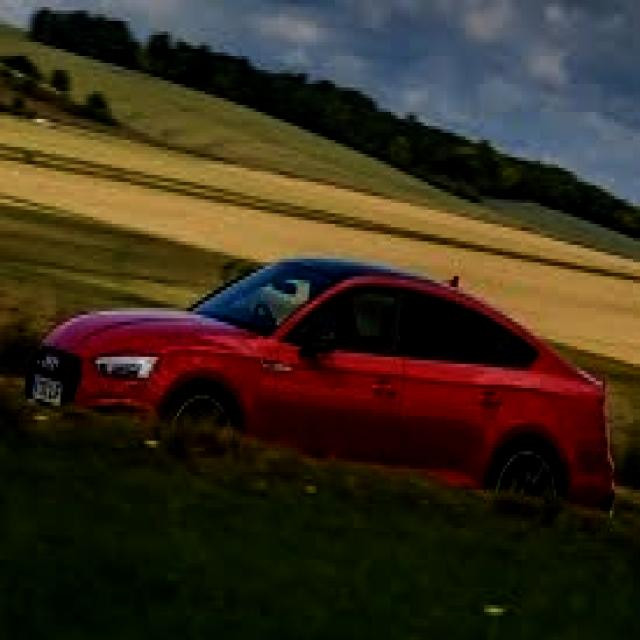red: (29, 216, 616, 524)
